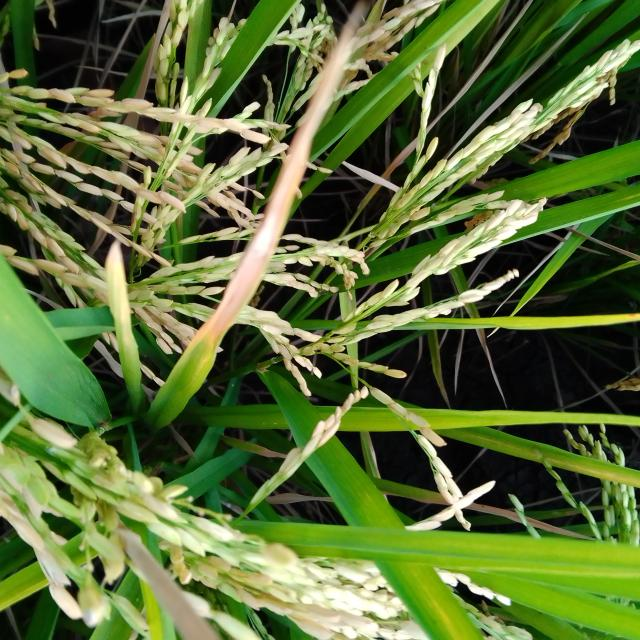Brown spot: (178, 248, 266, 363), (299, 0, 371, 124), (246, 128, 312, 242), (102, 235, 142, 358)
insects: (575, 454, 640, 490), (628, 312, 638, 319)
